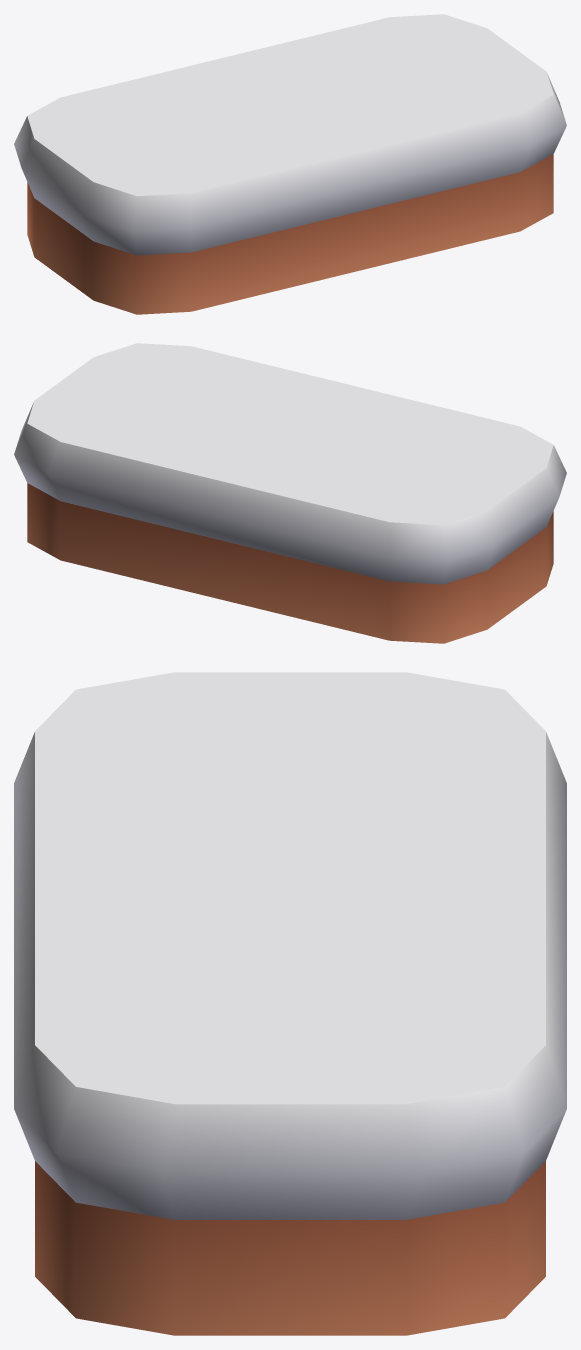
The model's file is block-snow-low-long.glb.
The picture shows the model from 3 angles, top to bottom: view 1: azimuth 30°, elevation 25°; view 2: azimuth 150°, elevation 25°; view 3: azimuth 270°, elevation 25°; orthographic projection. The views are drawn at different scales.
Parts seen in each view (by area): view 1: block-snow-low-long; view 2: block-snow-low-long; view 3: block-snow-low-long.
Boxes of the visible parts, x1,y1,x2,y2 form: block-snow-low-long: [14, 14, 566, 314]; block-snow-low-long: [14, 343, 566, 643]; block-snow-low-long: [14, 672, 566, 1335].
Bounding box in the file's own units: 2.08 × 0.5 × 1.08.
Materials: 1 (1 with a texture image).
